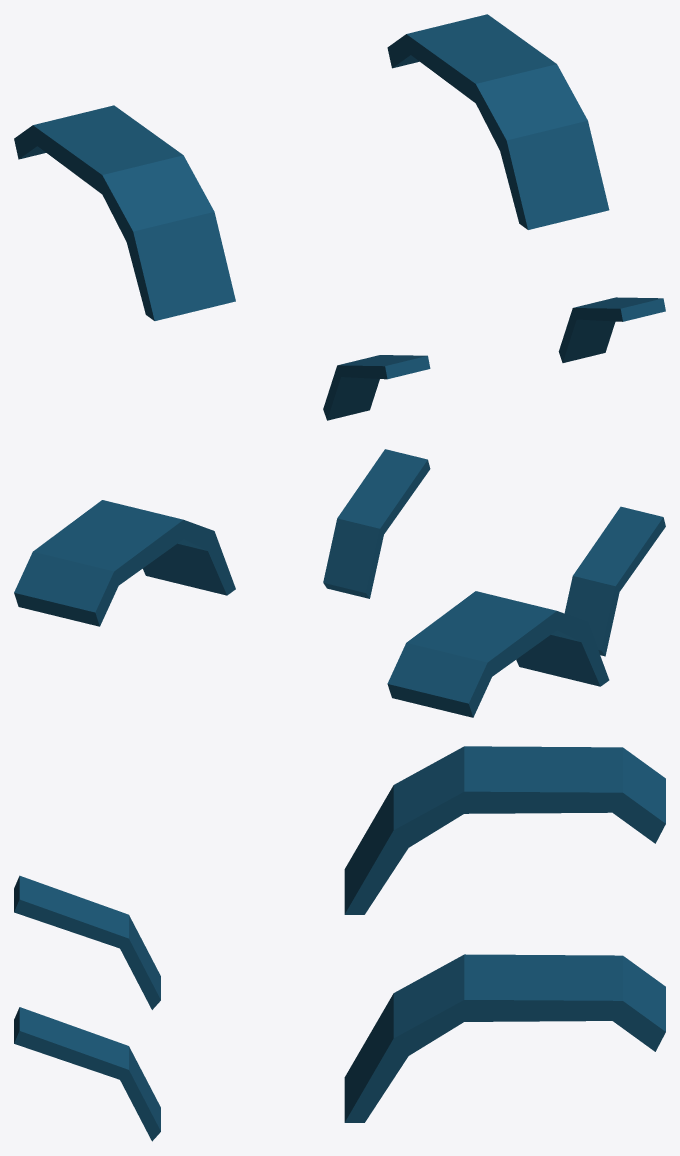
File: wheelGuards1.glb
The picture shows the model from 3 angles, top to bottom: view 1: azimuth 30°, elevation 25°; view 2: azimuth 150°, elevation 25°; view 3: azimuth 270°, elevation 25°; orthographic projection. The views are drawn at different scales.
Visible parts, largest first — view 1: wheelGuards1; view 2: wheelGuards1; view 3: wheelGuards1.
Boxes of the visible parts, x1,y1,x2,y2 form: wheelGuards1: (14,14,665,420); wheelGuards1: (14,449,665,717); wheelGuards1: (14,746,665,1141).
Bounding box in the file's own units: 4.34 × 1.53 × 4.72.
1 material, 1 textured.
